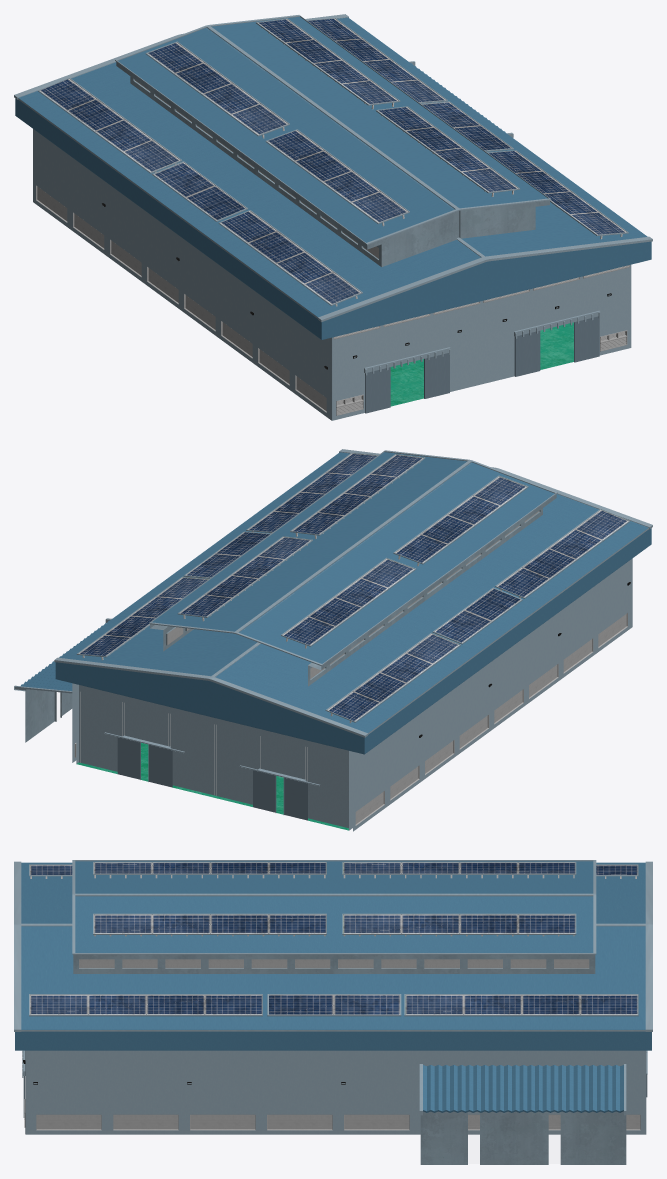
Rendered from wareHouse.fbx.
3 views of the same model, one above another, from view 1: azimuth 30°, elevation 25°; view 2: azimuth 150°, elevation 25°; view 3: azimuth 270°, elevation 25° (orthographic). The views are drawn at different scales.
Visible parts, largest first — view 1: wareHouse_lo; view 2: wareHouse_lo; view 3: wareHouse_lo.
Part boxes in pixels (<box>): wareHouse_lo: <box>14,14,652,420</box>; wareHouse_lo: <box>14,449,652,831</box>; wareHouse_lo: <box>14,860,652,1164</box>.
Bounding box in the file's own units: 90.5 × 35.52 × 124.
